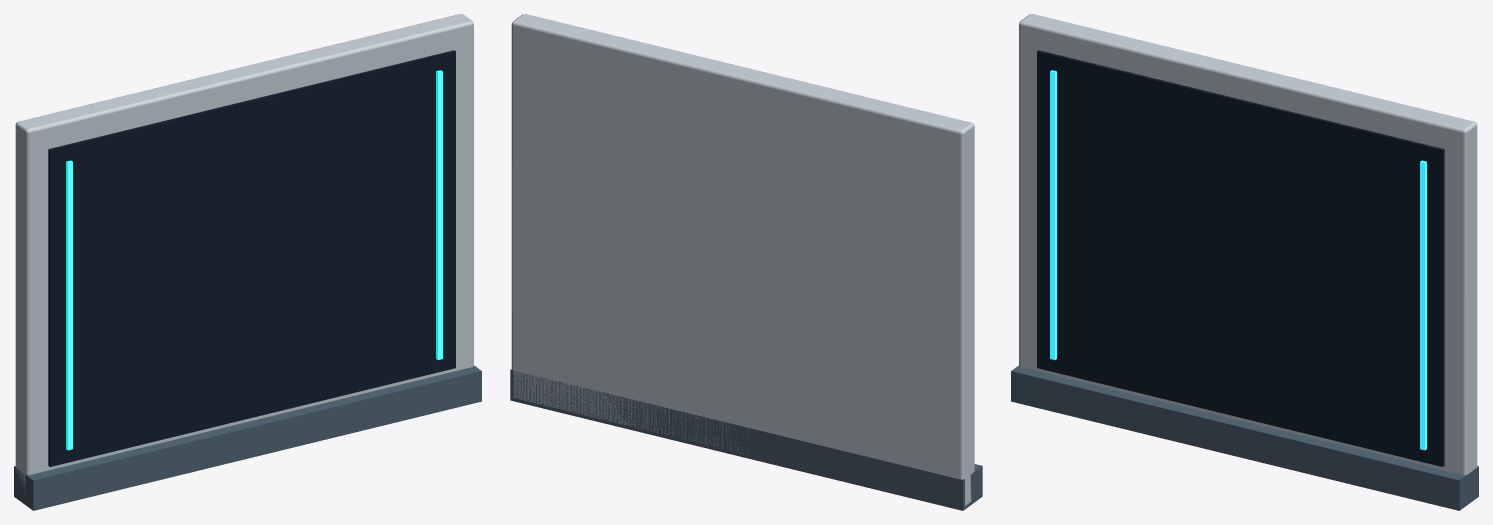
The model's file is wall-panel.glb.
3 renders of one model, left to right at view 1: azimuth 30°, elevation 25°; view 2: azimuth 150°, elevation 25°; view 3: azimuth 330°, elevation 25°, orthographic.
Parts seen in each view (by area): view 1: inset, shell, skirting, light (×2); view 2: shell, skirting; view 3: inset, shell, skirting, light (×2).
Part boxes in pixels (box(x1,y1,x2,y2)): inset: box(48, 50, 455, 466); shell: box(15, 14, 473, 495); skirting: box(14, 365, 481, 510); light (×2): box(66, 70, 442, 450); shell: box(511, 14, 974, 505); skirting: box(510, 369, 982, 510); inset: box(1037, 50, 1444, 466); shell: box(1019, 14, 1477, 474); skirting: box(1011, 365, 1478, 510); light (×2): box(1050, 70, 1426, 450).
Bounding box in the file's own units: 4 × 3.2 × 0.3.
